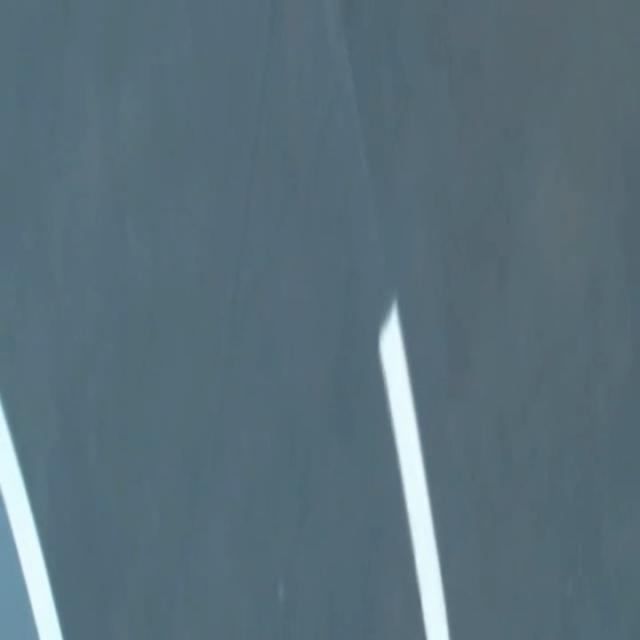center: (379, 300, 450, 639)
left: (0, 400, 62, 639)
